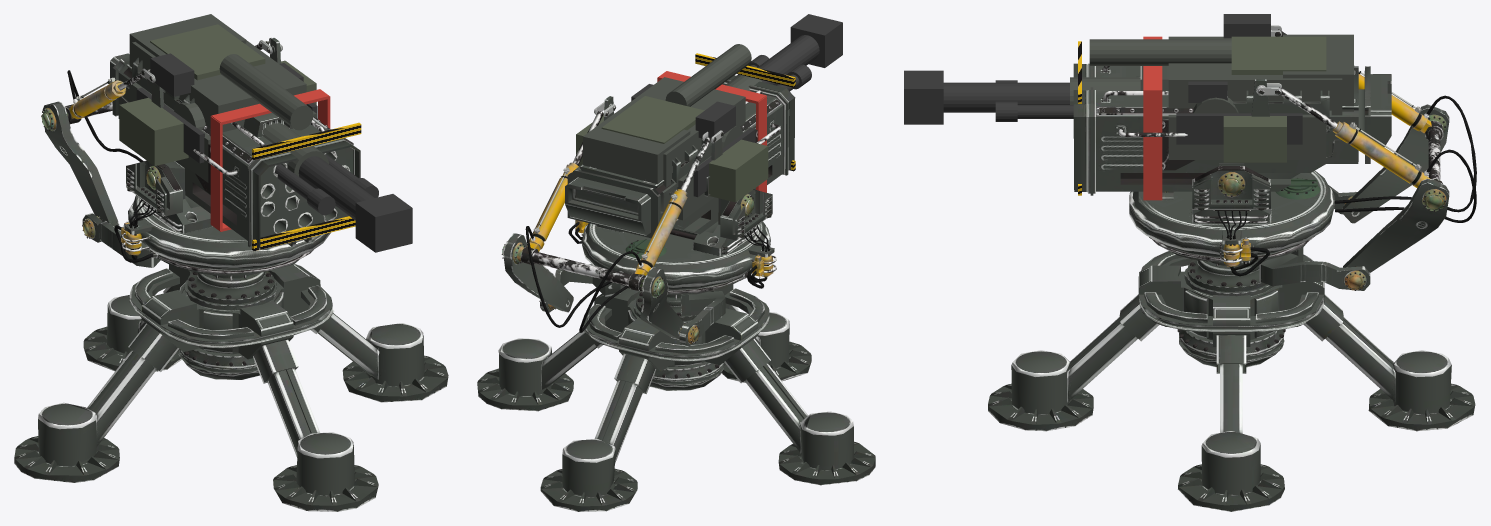
File: turrets.glb
3 renders of one model, left to right at view 1: azimuth 30°, elevation 25°; view 2: azimuth 150°, elevation 25°; view 3: azimuth 270°, elevation 25°, orthographic. The views are drawn at different scales.
Visible parts, largest first — view 1: t_low.025, t_low, t_low.002, CBreech, CBarrel, GAmmo, CBox, GBarrel1, BandB, HazBot, GCradle, t_low.019 (+1 smaller); view 2: t_low.025, t_low, t_low.002, CBreech, GCradle, CBarrel, t_low.019, CBox, GAmmo, t_low.021, GBarrel1, BandB (+1 smaller); view 3: t_low.025, t_low, t_low.002, CBreech, CBox, CBarrel, t_low.019, GCradle, GBarrel1, BandB, t_low.021.
Boxes of the visible parts, bbox=[...] form: t_low.025: bbox=[14, 264, 448, 511]; t_low: bbox=[41, 77, 330, 275]; t_low.002: bbox=[110, 37, 360, 249]; CBreech: bbox=[132, 40, 328, 176]; CBarrel: bbox=[150, 53, 412, 252]; GAmmo: bbox=[119, 97, 188, 166]; CBox: bbox=[150, 24, 316, 104]; GBarrel1: bbox=[136, 63, 378, 215]; BandB: bbox=[210, 89, 330, 231]; HazBot: bbox=[252, 122, 361, 250]; GCradle: bbox=[129, 14, 316, 182]; t_low.019: bbox=[82, 200, 181, 267]; t_low.025: bbox=[477, 284, 875, 511]; t_low: bbox=[502, 162, 774, 339]; t_low.002: bbox=[565, 75, 795, 238]; CBreech: bbox=[616, 44, 761, 187]; GCradle: bbox=[583, 113, 754, 220]; CBarrel: bbox=[695, 14, 842, 138]; t_low.019: bbox=[540, 220, 776, 346]; CBox: bbox=[576, 96, 704, 166]; GAmmo: bbox=[708, 139, 768, 202]; t_low.021: bbox=[501, 168, 769, 343]; GBarrel1: bbox=[631, 55, 811, 197]; BandB: bbox=[657, 71, 766, 192]; t_low.025: bbox=[988, 251, 1475, 511]; t_low: bbox=[1129, 65, 1449, 272]; t_low.002: bbox=[1073, 25, 1391, 195]; CBreech: bbox=[1070, 36, 1342, 115]; CBox: bbox=[1223, 36, 1326, 162]; CBarrel: bbox=[904, 14, 1270, 124]; t_low.019: bbox=[1164, 178, 1370, 290]; GCradle: bbox=[1168, 34, 1353, 159]; GBarrel1: bbox=[995, 80, 1302, 144]; BandB: bbox=[1143, 36, 1162, 200]; t_low.021: bbox=[1166, 95, 1476, 290].
Bounding box in the file's own units: 6.18 × 5.15 × 7.26.
Materials: 8 (4 with a texture image).
